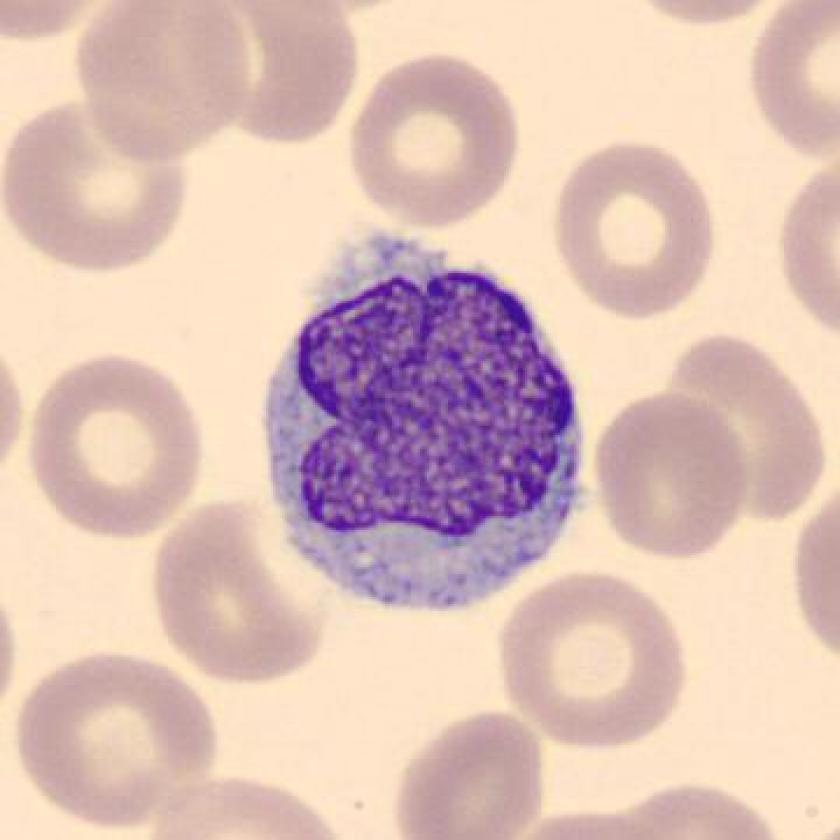monocyte: (249, 200, 599, 630)
